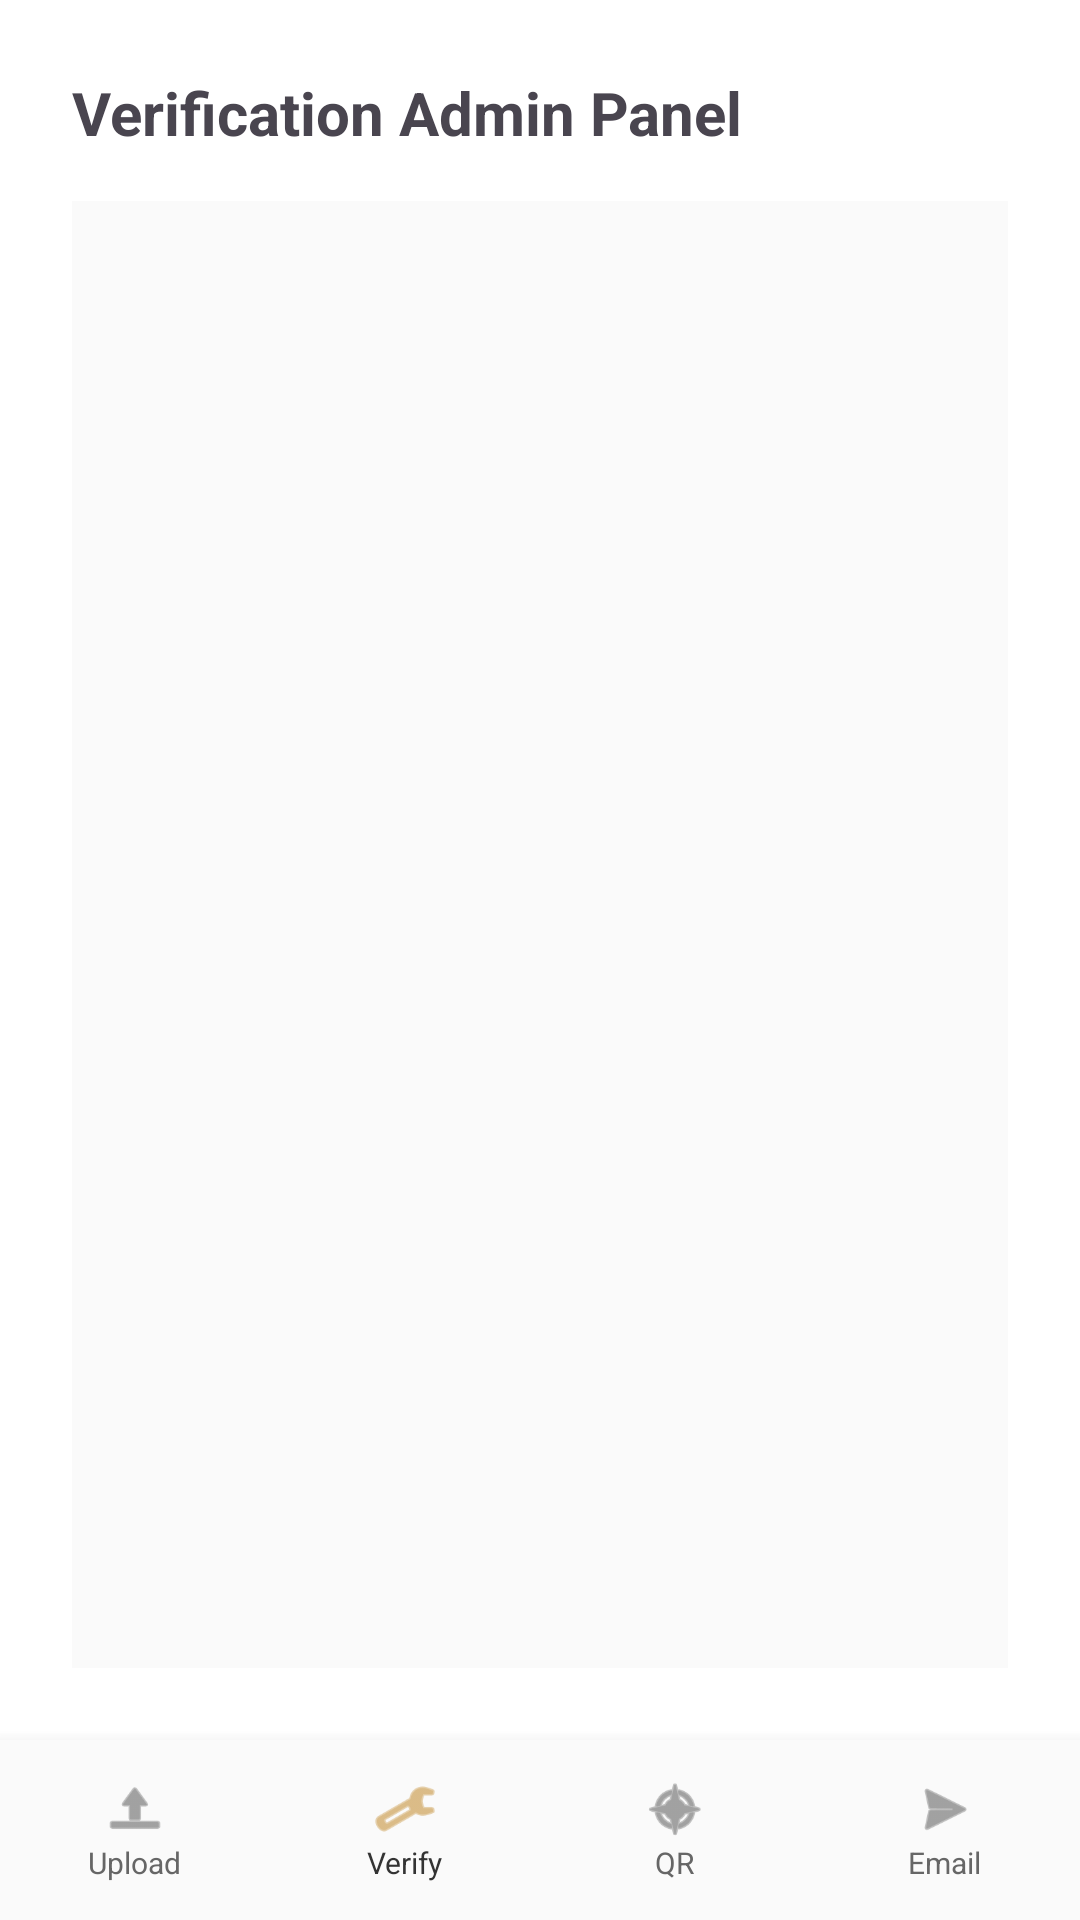

Icon click points for this 1080x1920 phone screenshot, format (x,y):
compass: (675,1809)
manage: (405,1809)
send: (946,1809)
